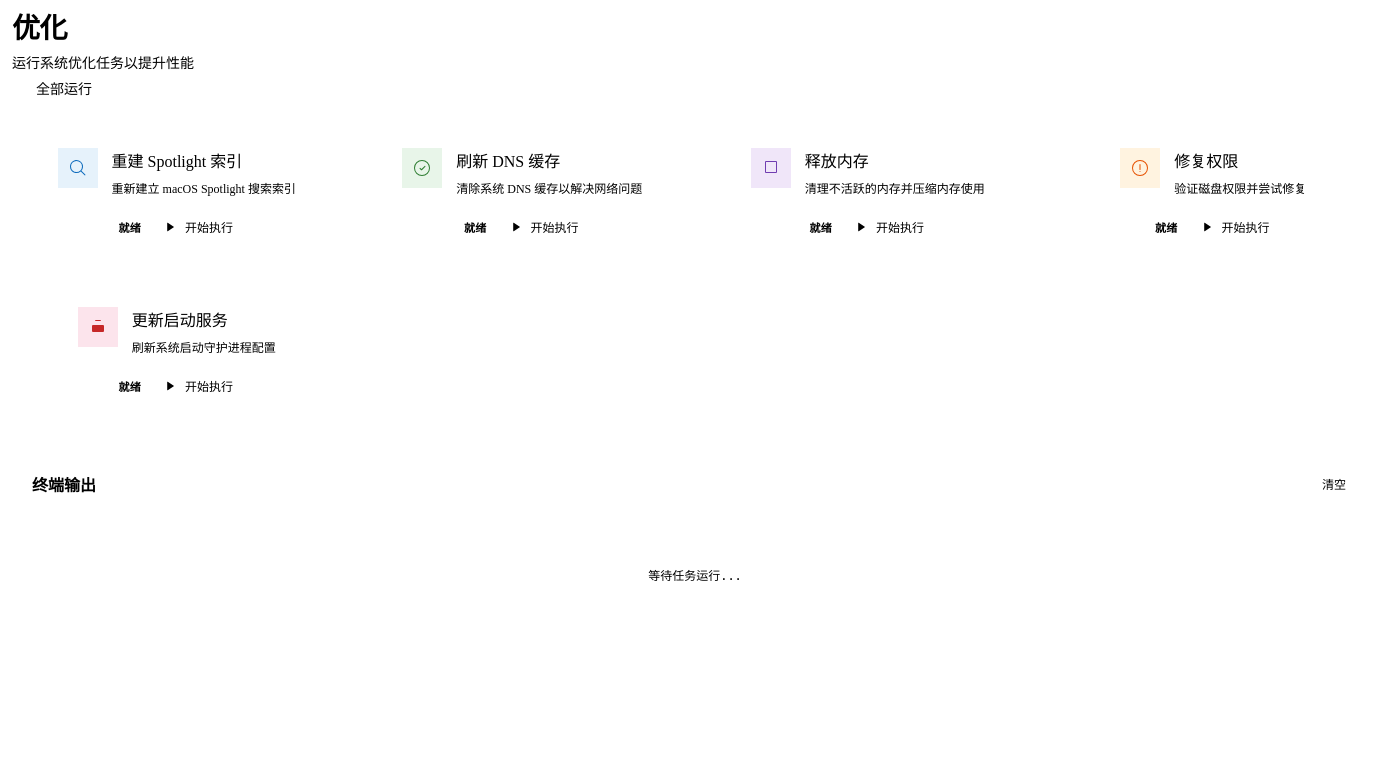
Test: OptimizeView 终端输出 › 点击清空按钮应清空终端
Click the button with class "btn-small" below "重新建立 macOS Spotlight 搜索索引" at [198, 227], box [151,213,245,241]
Wait 500 ms
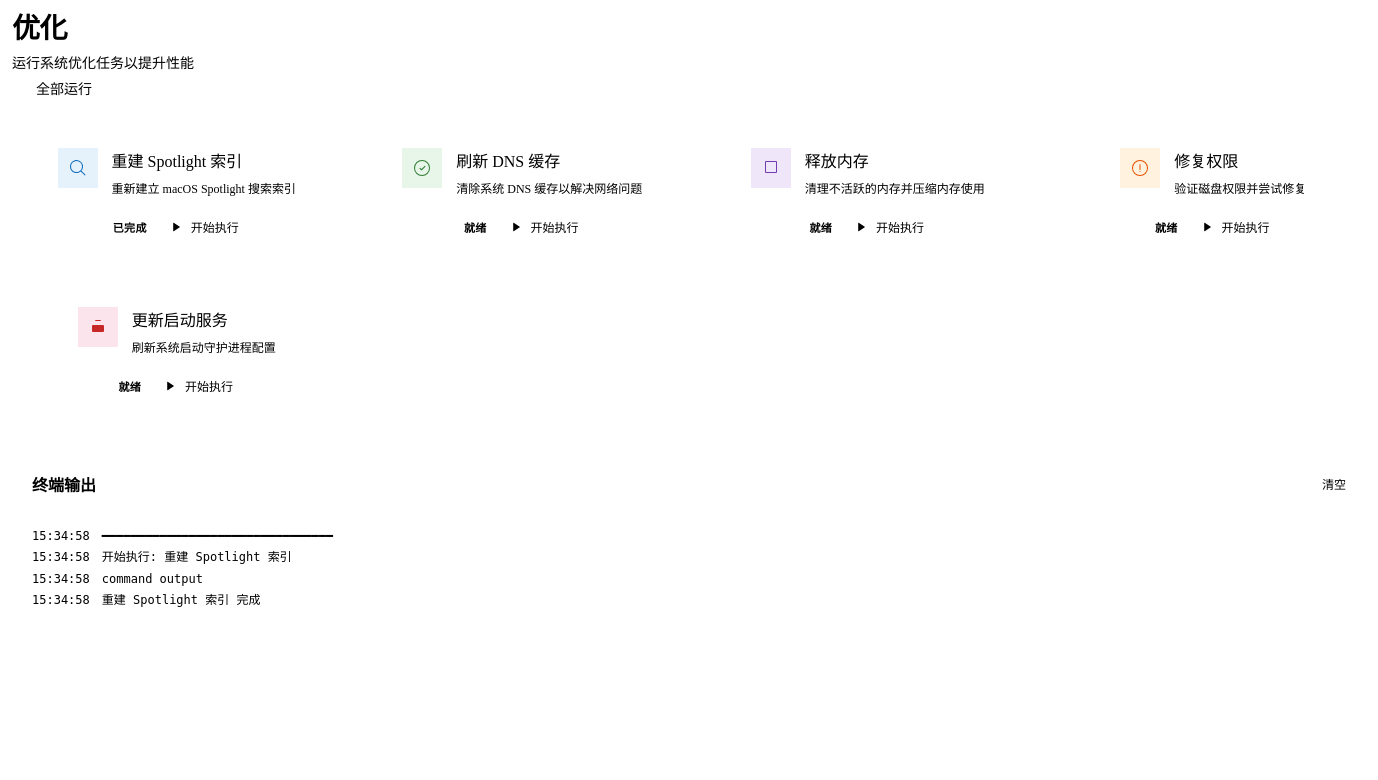
Check: the 1st element with class "terminal-line" is shown, box [32,529,333,543]
Click the button with class "btn-small" showing "清空" at [1334, 484], box [1310,470,1358,498]
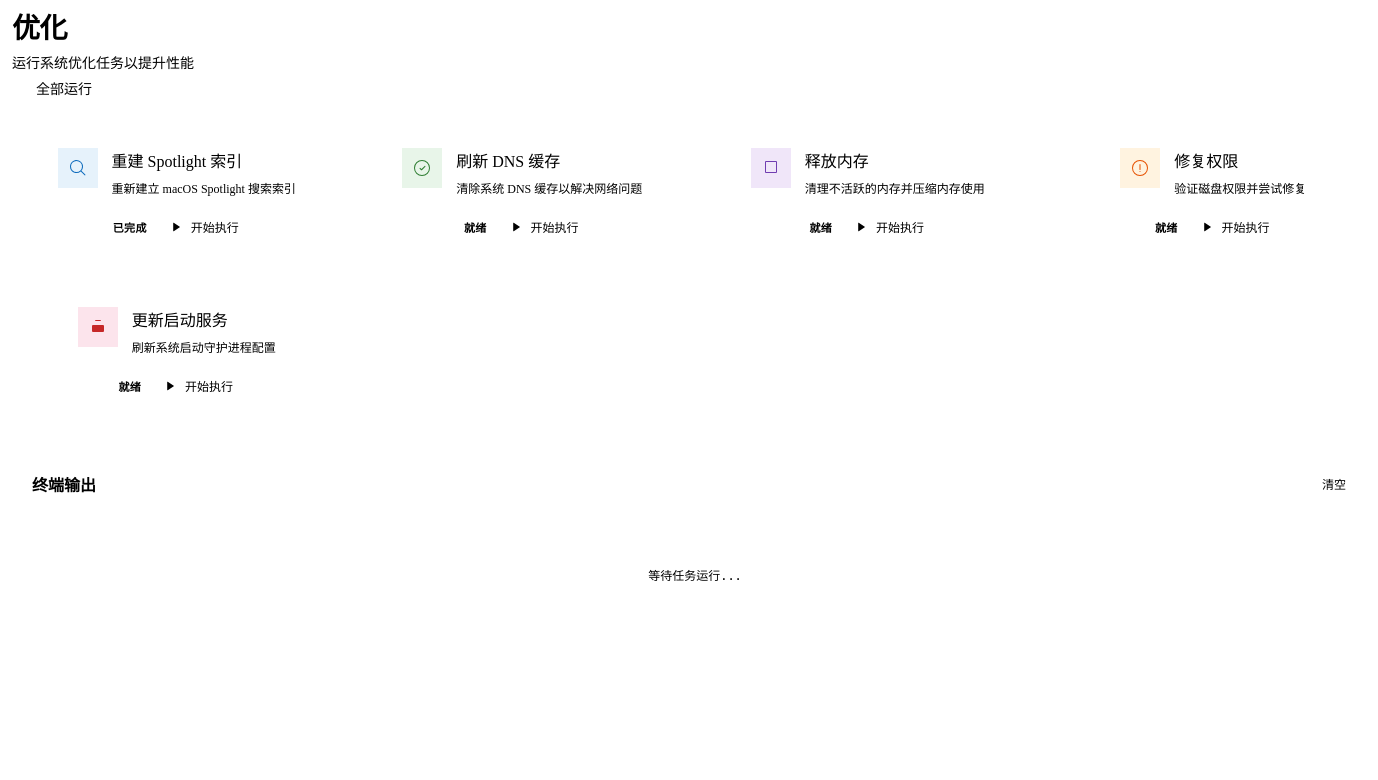
Check: no elements with class "terminal-line" are shown
Check: the element with class "terminal-empty" is shown, box [648,569,742,583]
